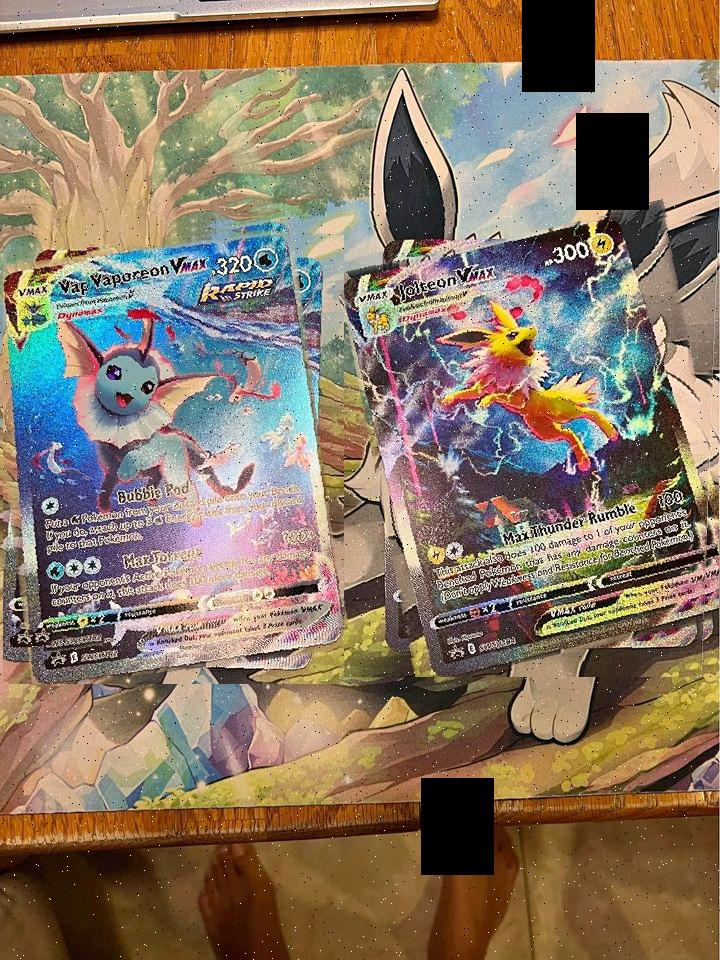card: (344, 216, 709, 677), (3, 232, 344, 684)
name: (87, 249, 212, 293)
set num: (63, 630, 104, 650), (34, 628, 53, 646)
